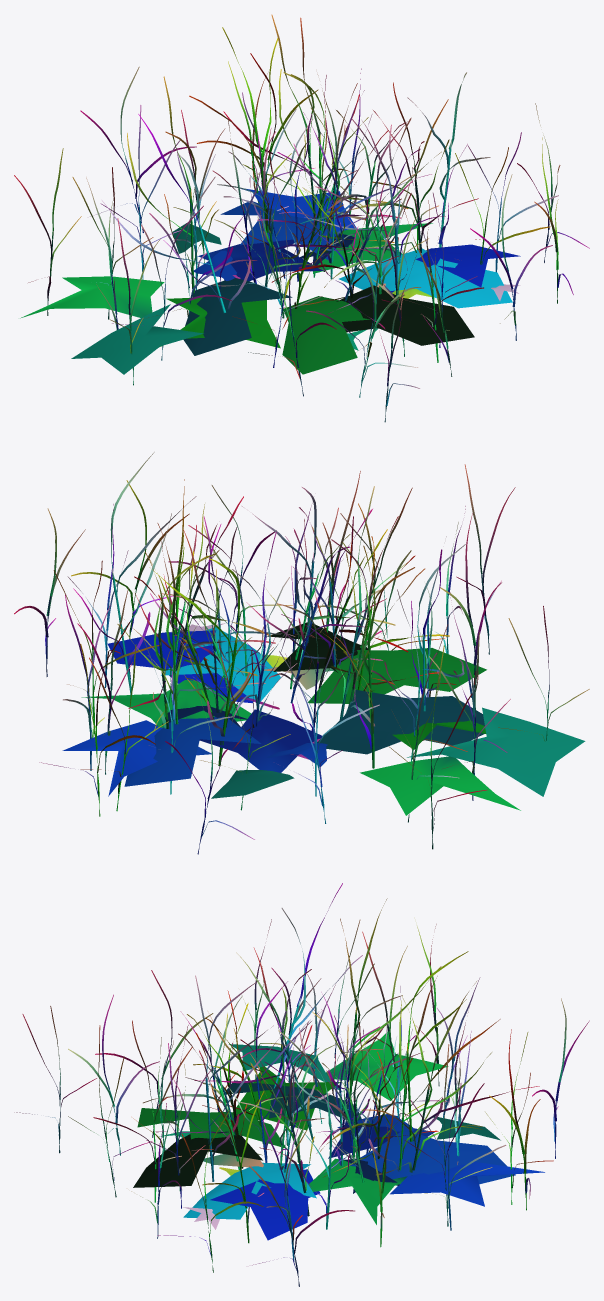
Rendered from Kikuyu_Grass_wiljearqx_High_wiljearqx_VarD_LOD0.fbx.
The picture shows the model from 3 angles, top to bottom: view 1: azimuth 30°, elevation 25°; view 2: azimuth 150°, elevation 25°; view 3: azimuth 270°, elevation 25°; orthographic projection. The views are drawn at different scales.
Visible parts, largest first — view 1: _d3d8_VarD_LOD0; view 2: _d3d8_VarD_LOD0; view 3: _d3d8_VarD_LOD0.
Part boxes in pixels (x1,y1,x2,y2): _d3d8_VarD_LOD0: (14,14,589,422); _d3d8_VarD_LOD0: (14,452,589,854); _d3d8_VarD_LOD0: (14,883,589,1286).
Bounding box in the file's own units: 73.16 × 33.31 × 75.08.
